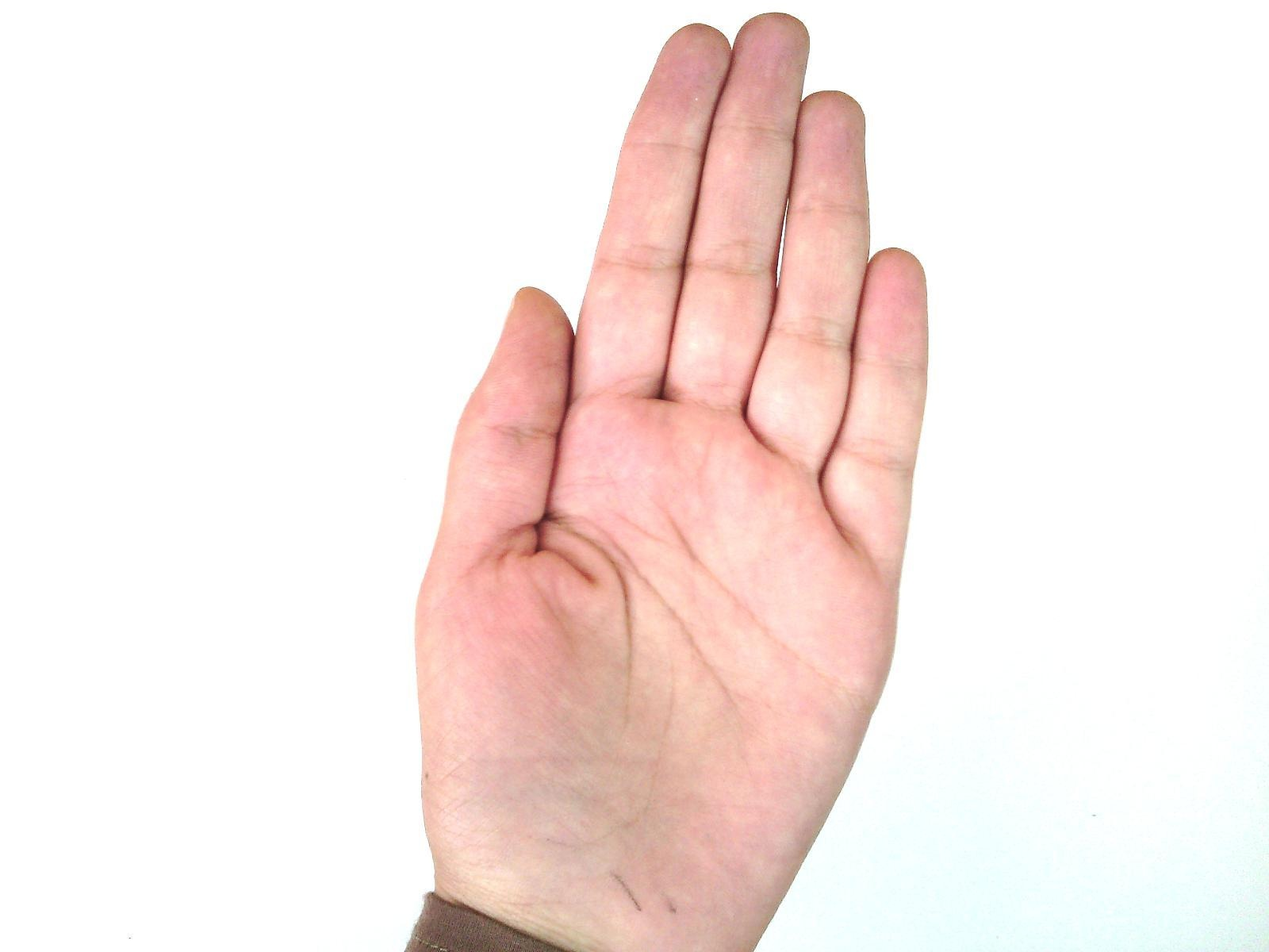open_palm: (408, 13, 933, 950)
